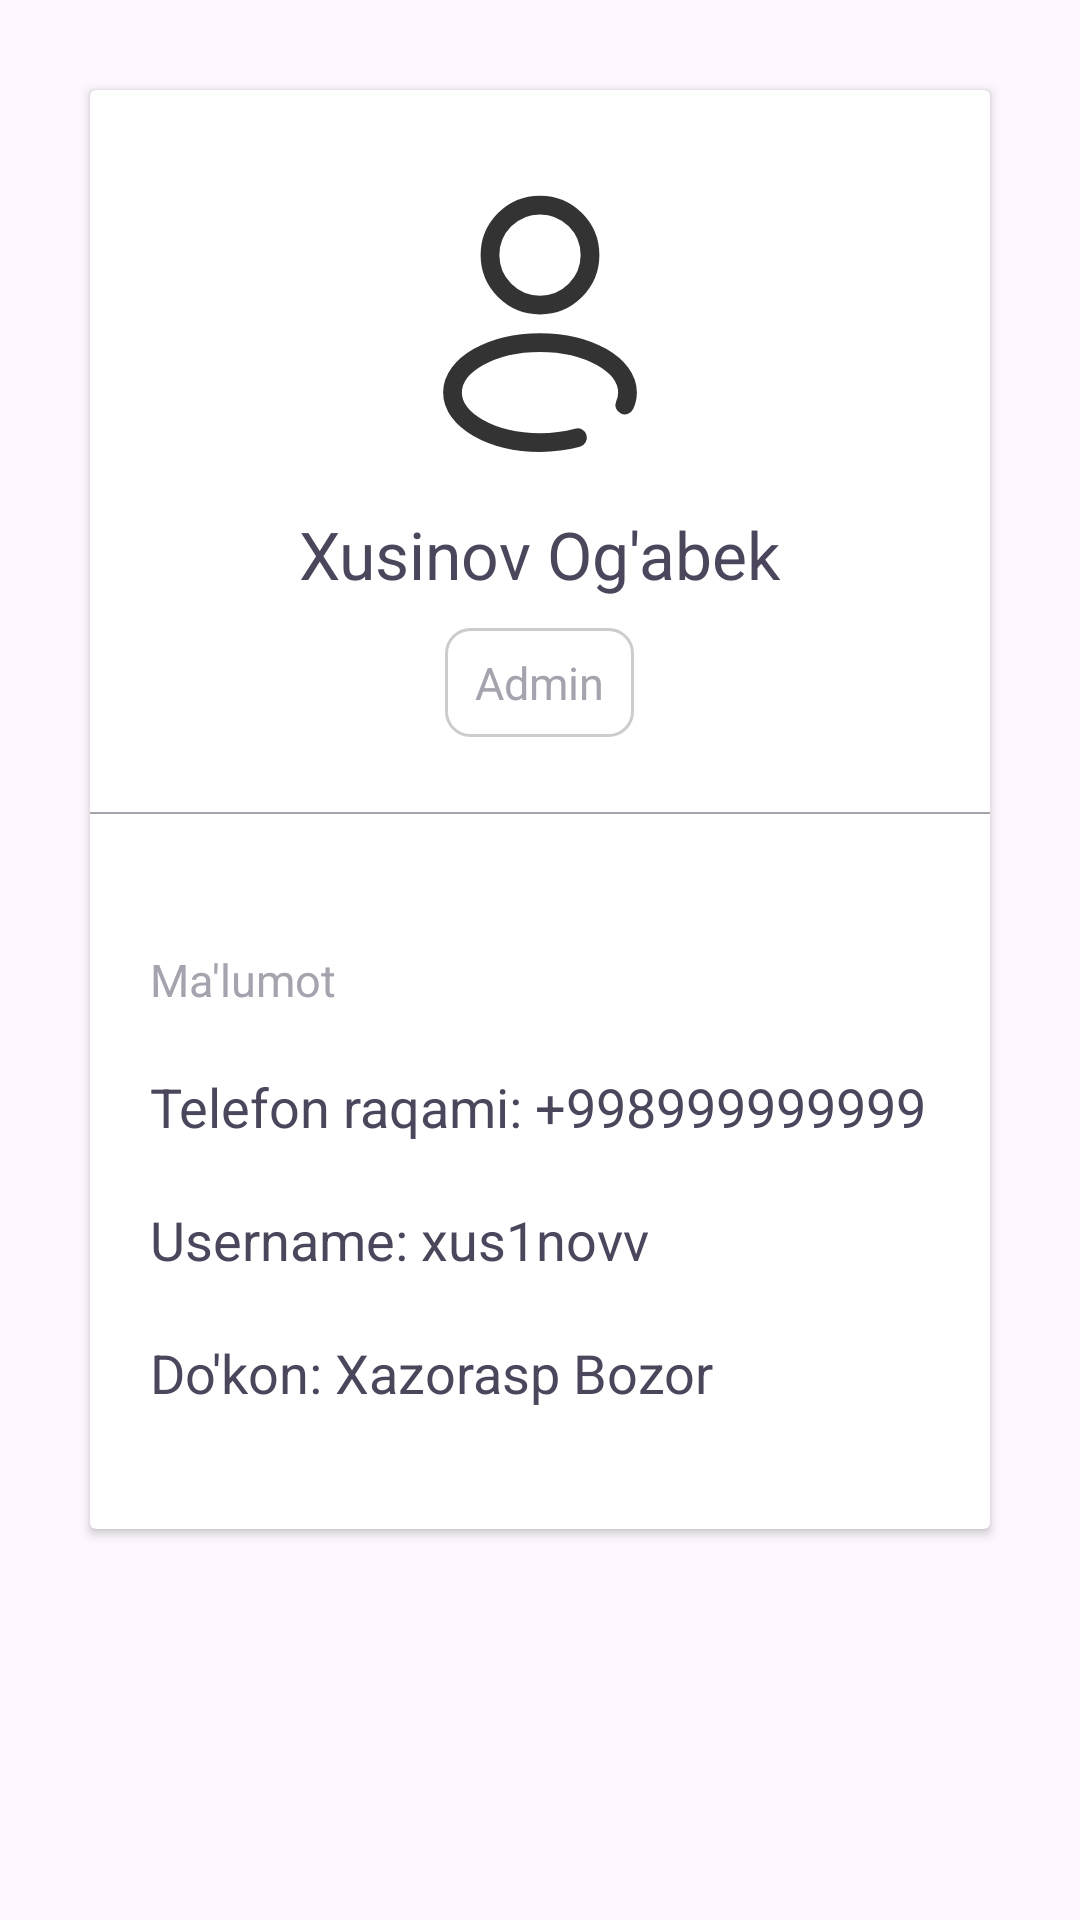

Icons on this 1080px×1920px Android screen, each with its box as (x1, y1, x2, y2):
user rounded: (443, 195, 637, 452)
